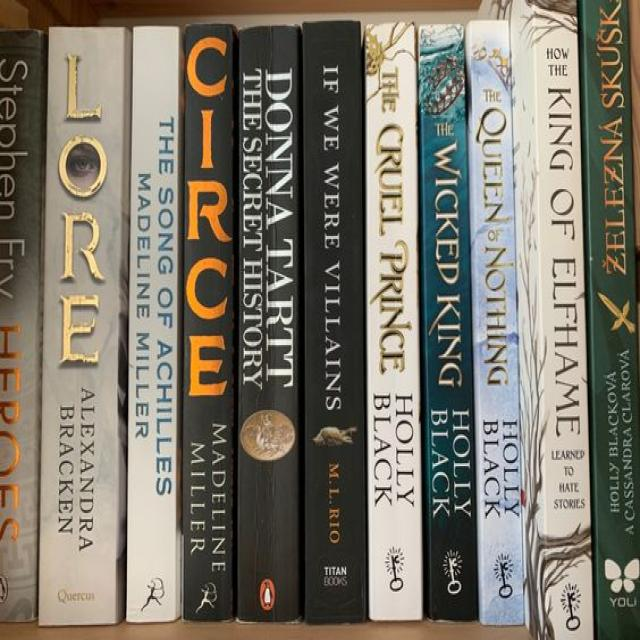book: (40, 27, 128, 623), (511, 0, 592, 638), (236, 26, 301, 619), (579, 0, 639, 638), (303, 21, 365, 622), (466, 20, 525, 623), (126, 26, 183, 622), (365, 23, 422, 619), (420, 24, 475, 619), (183, 24, 235, 619), (0, 30, 45, 619)
